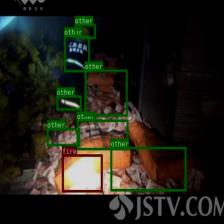fire: (62, 154, 102, 192)
